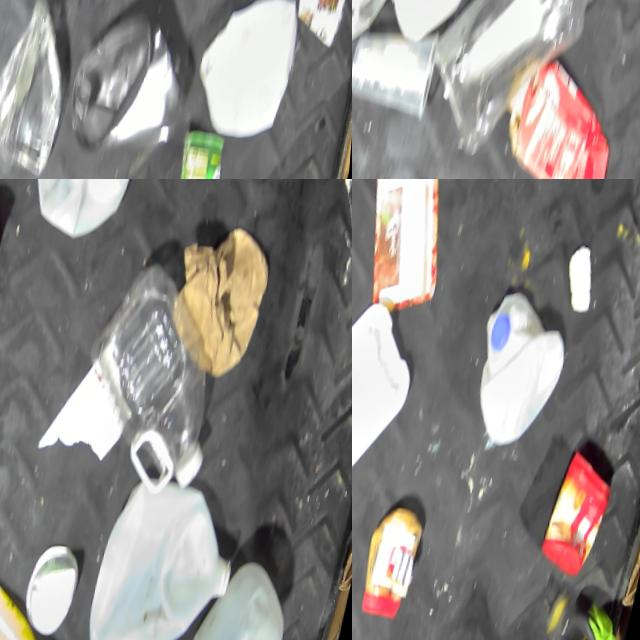can: (62, 0, 204, 179), (352, 0, 452, 119)
milk_jug: (87, 468, 256, 640), (466, 275, 583, 448), (187, 0, 318, 141), (181, 552, 305, 640), (19, 179, 156, 242), (362, 0, 508, 53)
non_white_jug: (489, 47, 638, 179)
plastic_bottle: (81, 264, 247, 478), (419, 0, 615, 179), (60, 0, 212, 163)
